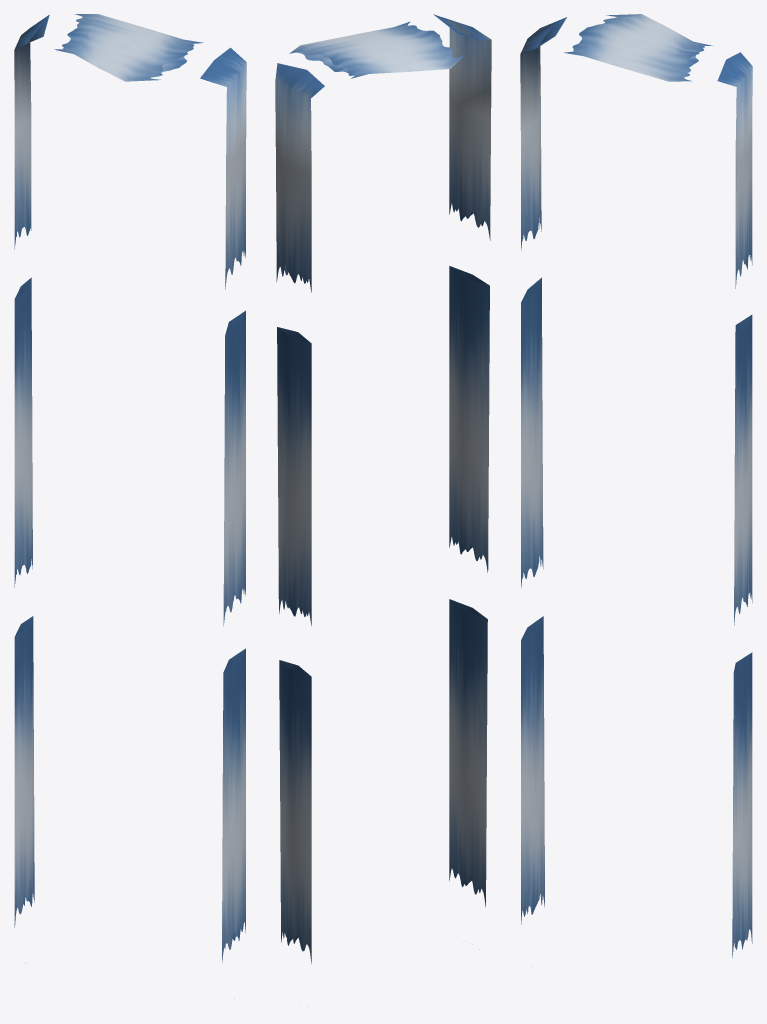
The model's file is Ile_3_Riviere.FBX.
3 renders of one model, left to right at view 1: azimuth 90°, elevation 25°; view 2: azimuth 150°, elevation 25°; view 3: azimuth 270°, elevation 25°, orthographic.
Parts seen in each view (by area): view 1: Ile_3_Riviere; view 2: Ile_3_Riviere; view 3: Ile_3_Riviere.
Boxes of the visible parts, x1,y1,x2,y2 form: Ile_3_Riviere: (14, 14, 246, 998); Ile_3_Riviere: (275, 14, 491, 963); Ile_3_Riviere: (520, 14, 752, 957).
Size of the model in its own units: 1257 by 8130 by 1823.
